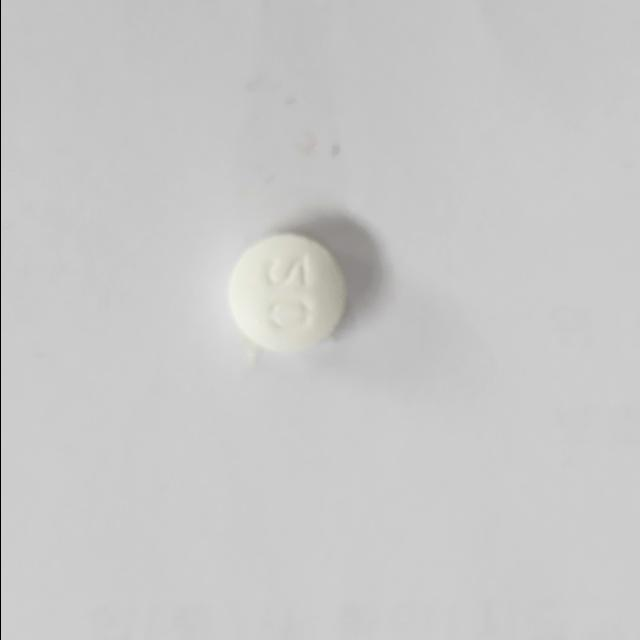pill: (222, 230, 352, 356)
